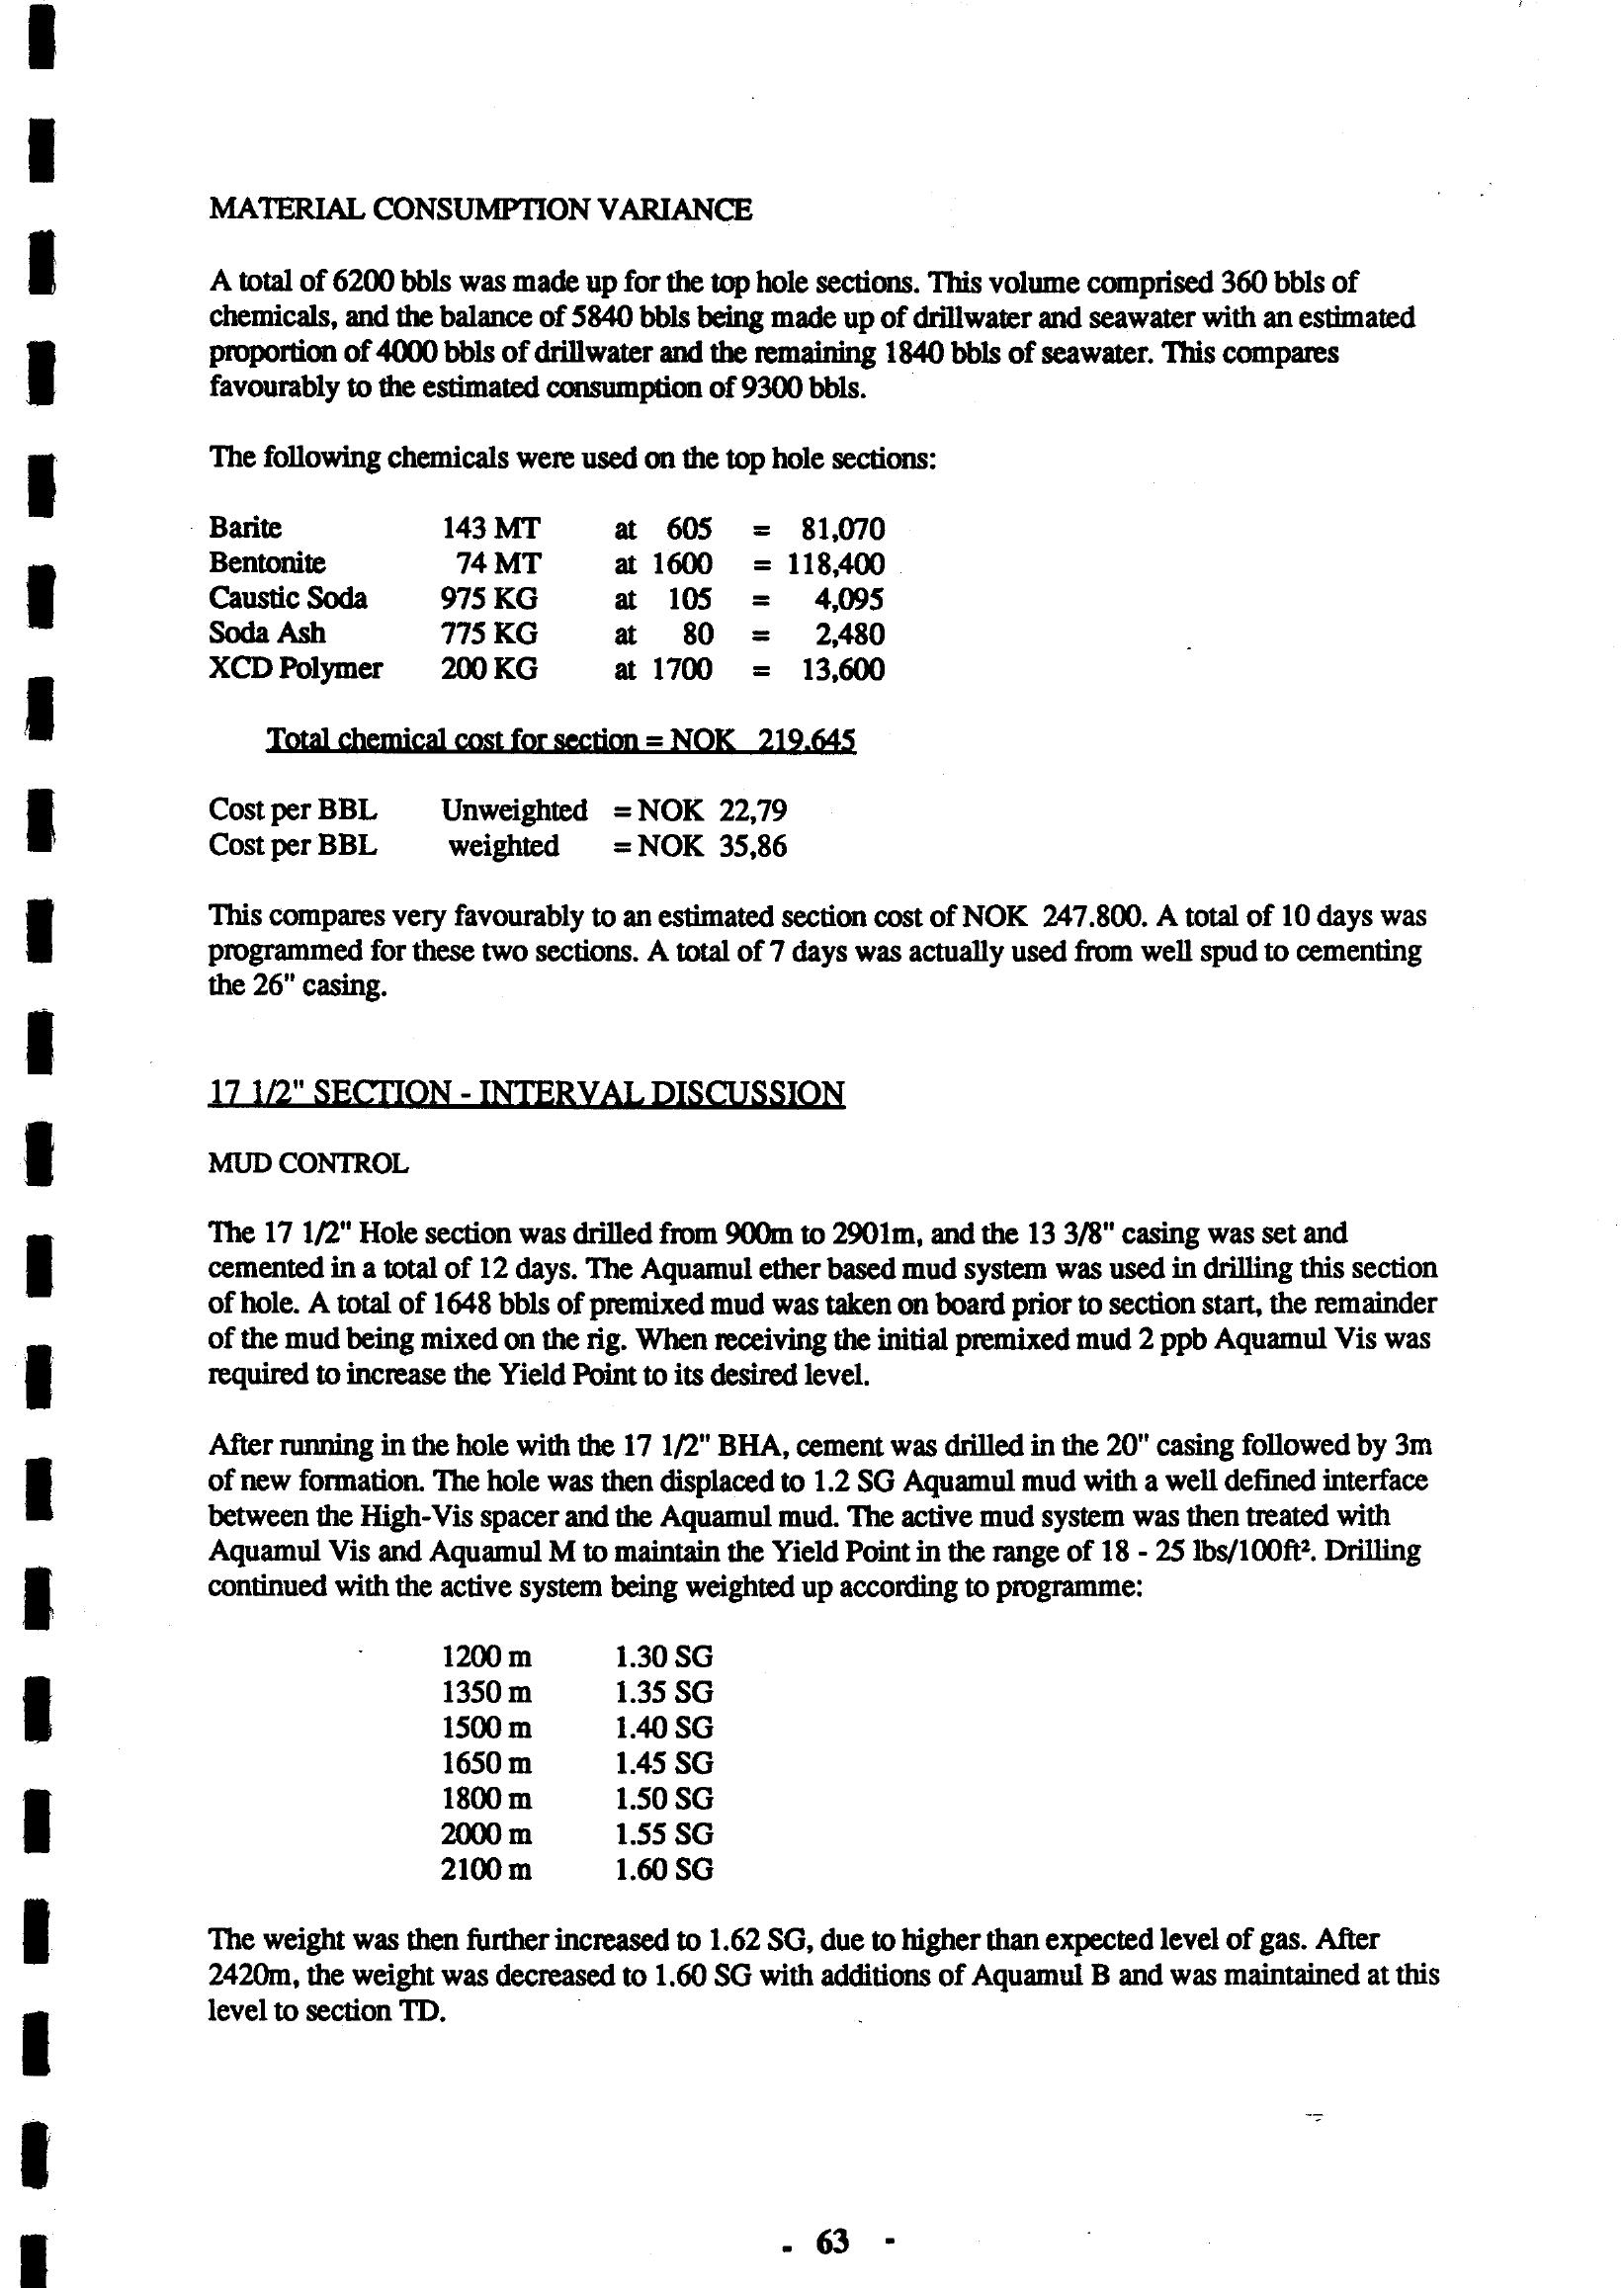text: (153, 146, 1512, 2111)
